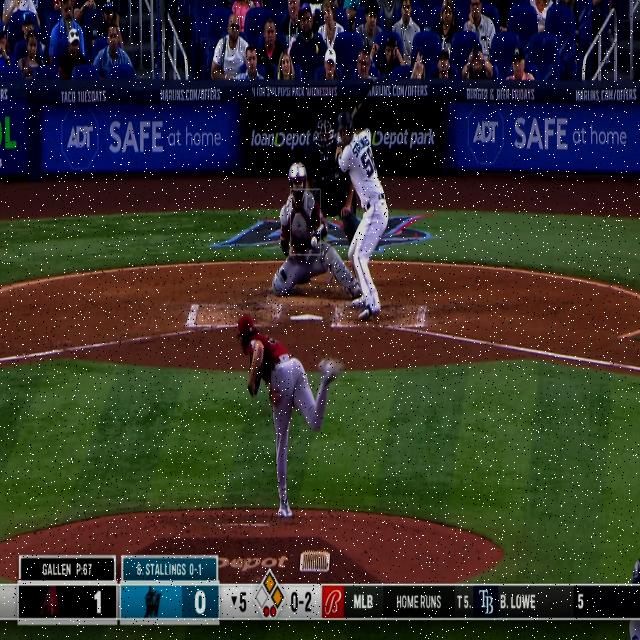baseball: (310, 235, 318, 249)
